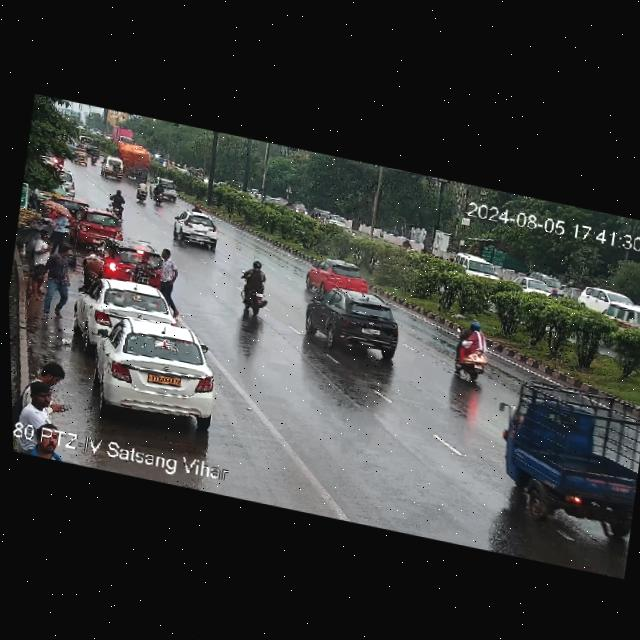car: (481, 369, 640, 535), (76, 309, 228, 434), (299, 283, 422, 368), (71, 271, 180, 353), (83, 230, 168, 285), (297, 252, 373, 303), (171, 210, 230, 254), (577, 283, 634, 319), (452, 249, 504, 285), (75, 205, 128, 240), (602, 296, 640, 338), (512, 274, 554, 301), (46, 168, 82, 199), (101, 155, 130, 184), (151, 175, 179, 200), (70, 145, 92, 167)
motorcycle: (445, 317, 500, 388), (230, 257, 279, 320), (105, 187, 128, 221), (133, 178, 152, 205), (152, 182, 167, 207)
person: (11, 356, 81, 460), (35, 239, 81, 323), (25, 227, 59, 298), (153, 245, 186, 307), (132, 243, 159, 288)
truck: (112, 139, 153, 180)
